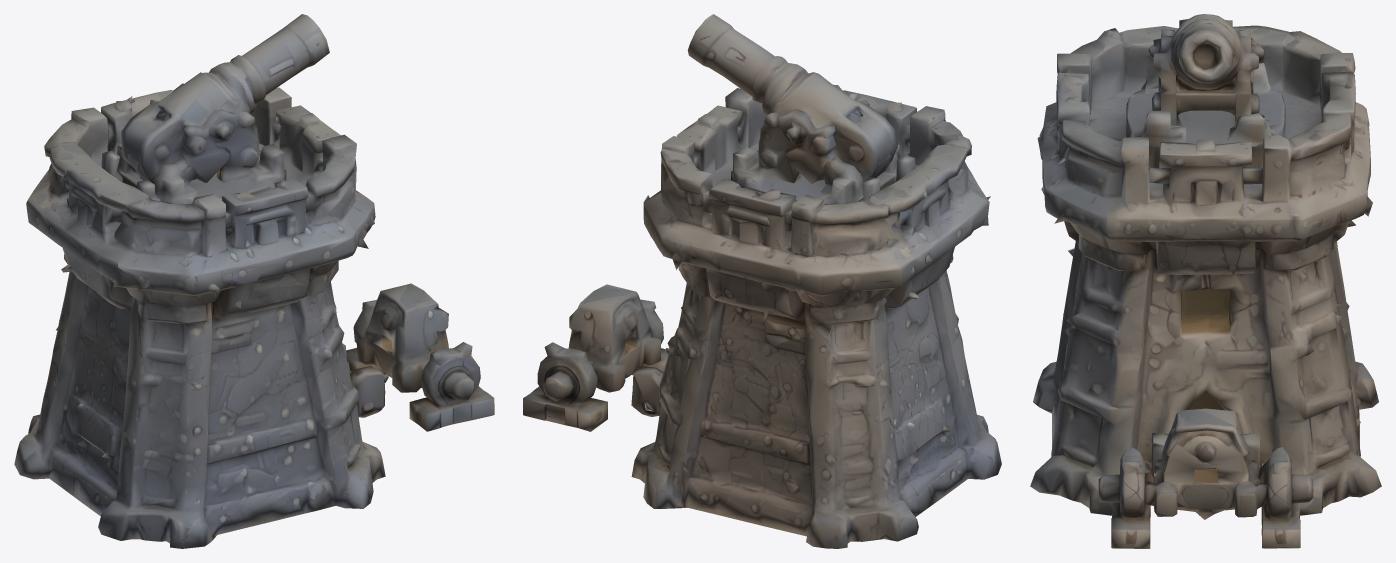
The model's file is bld_tower.glb.
The picture shows the model from 3 angles, left to right: view 1: azimuth 30°, elevation 25°; view 2: azimuth 150°, elevation 25°; view 3: azimuth 270°, elevation 25°; orthographic projection. The views are drawn at different scales.
Visible parts, largest first — view 1: tripo_node_2d887bbd-6268-4921-8229-cf55ad3664ab; view 2: tripo_node_2d887bbd-6268-4921-8229-cf55ad3664ab; view 3: tripo_node_2d887bbd-6268-4921-8229-cf55ad3664ab.
Boxes of the visible parts, x1,y1,x2,y2 form: tripo_node_2d887bbd-6268-4921-8229-cf55ad3664ab: (14, 14, 494, 548); tripo_node_2d887bbd-6268-4921-8229-cf55ad3664ab: (523, 14, 1001, 548); tripo_node_2d887bbd-6268-4921-8229-cf55ad3664ab: (1030, 14, 1381, 548).
Bounding box in the file's own units: 0.957 × 1 × 0.6804.
Materials: 1 (1 with a texture image).
